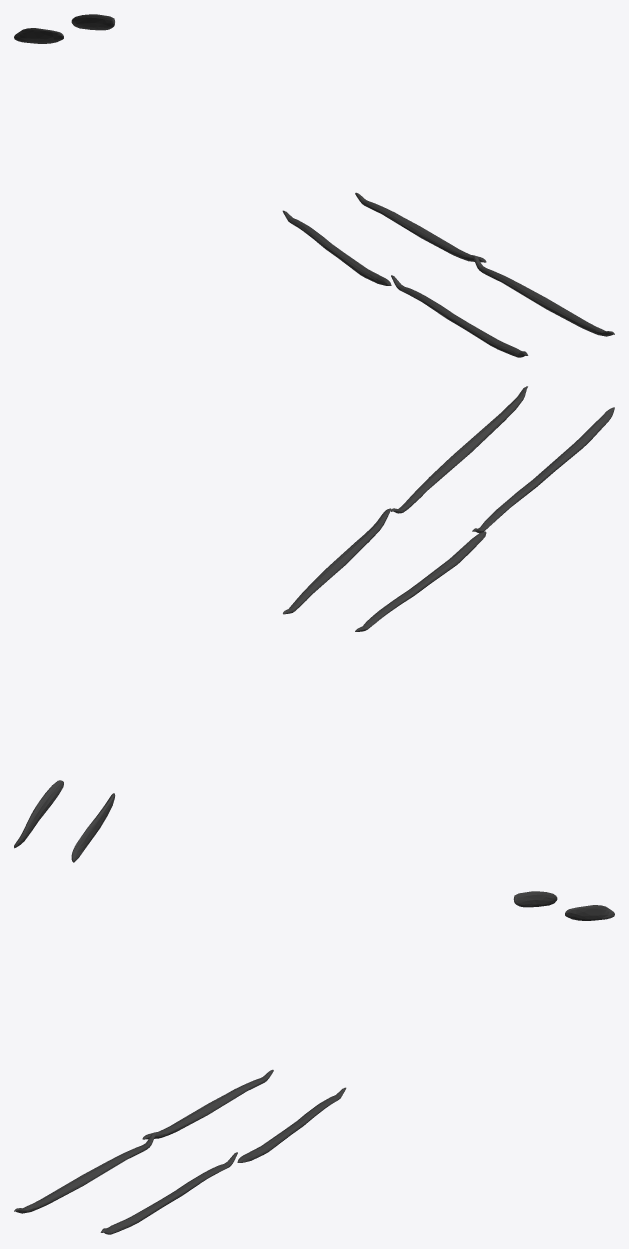
The model's file is m_intertransversarii_thoracis.glb.
3 views of the same model, one above another, from view 1: azimuth 30°, elevation 25°; view 2: azimuth 150°, elevation 25°; view 3: azimuth 330°, elevation 25° (orthographic).
Parts seen in each view (by area): view 1: m_intertransversarii_thoracis; view 2: m_intertransversarii_thoracis; view 3: m_intertransversarii_thoracis.
Part boxes in pixels (bbox=[...]): m_intertransversarii_thoracis: bbox=[14, 14, 614, 357]; m_intertransversarii_thoracis: bbox=[14, 386, 614, 862]; m_intertransversarii_thoracis: bbox=[14, 891, 614, 1234].
Size of the model in its own units: 0.00111 by 0.00078 by 0.0101.
Materials: 1 (1 with a texture image).
